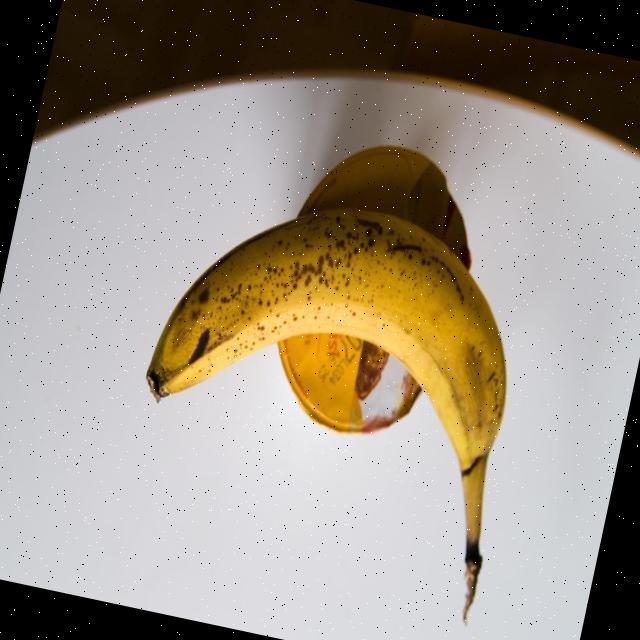banana: (143, 202, 504, 612)
